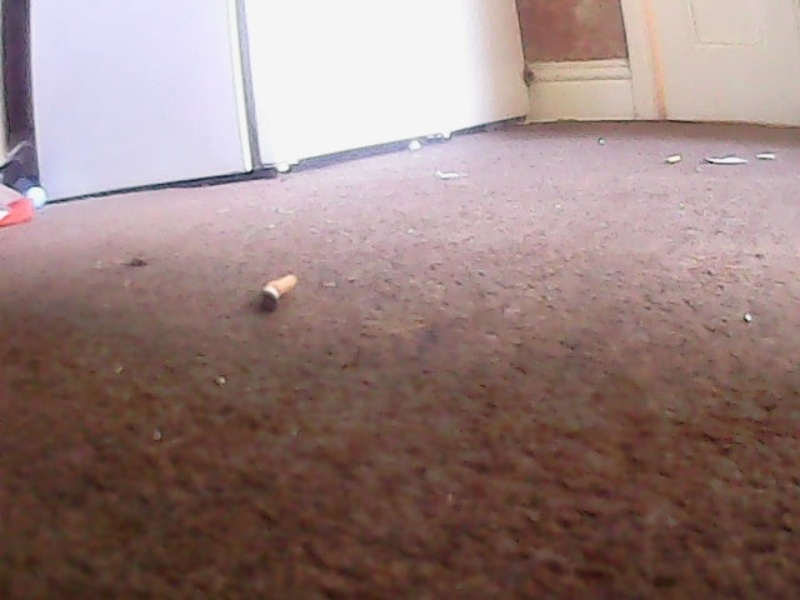cig: (250, 270, 304, 310), (666, 152, 681, 168)
